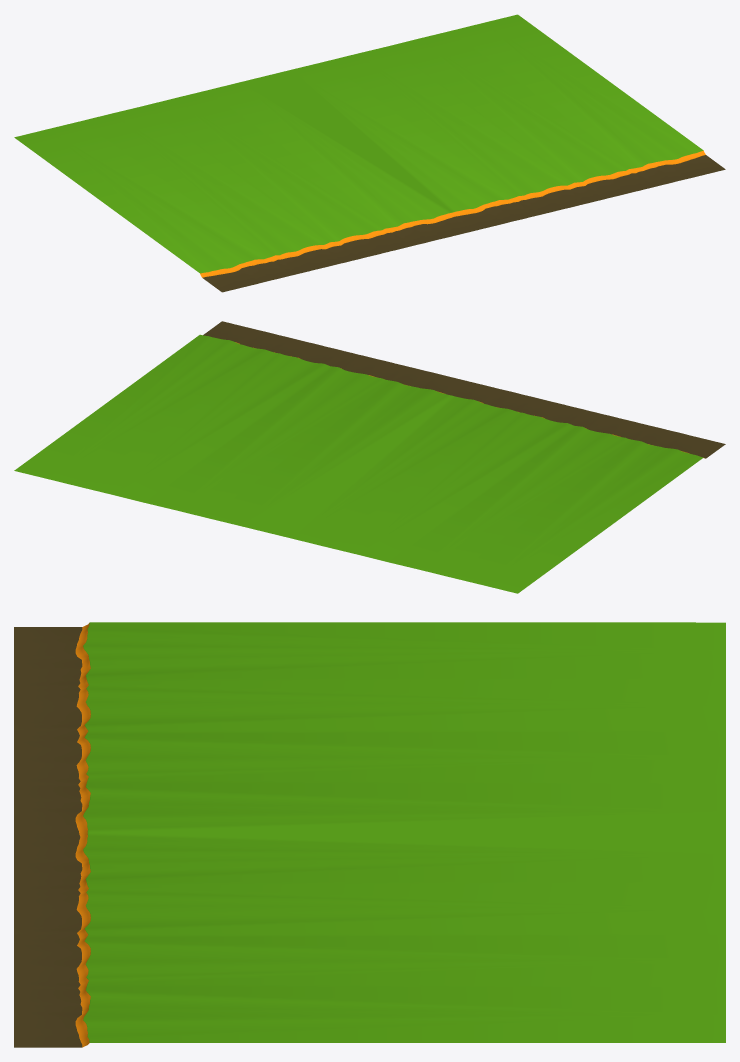
File: floor01.FBX
3 renders of one model, top to bottom at view 1: azimuth 30°, elevation 25°; view 2: azimuth 150°, elevation 25°; view 3: azimuth 270°, elevation 25°, orthographic. The views are drawn at different scales.
Visible parts, largest first — view 1: Plane009; view 2: Plane009; view 3: Plane009.
Boxes of the visible parts, x1,y1,x2,y2 form: Plane009: [14, 14, 725, 292]; Plane009: [14, 321, 725, 593]; Plane009: [14, 622, 725, 1047].
Bounding box in the file's own units: 4101 × 23.82 × 2935.
